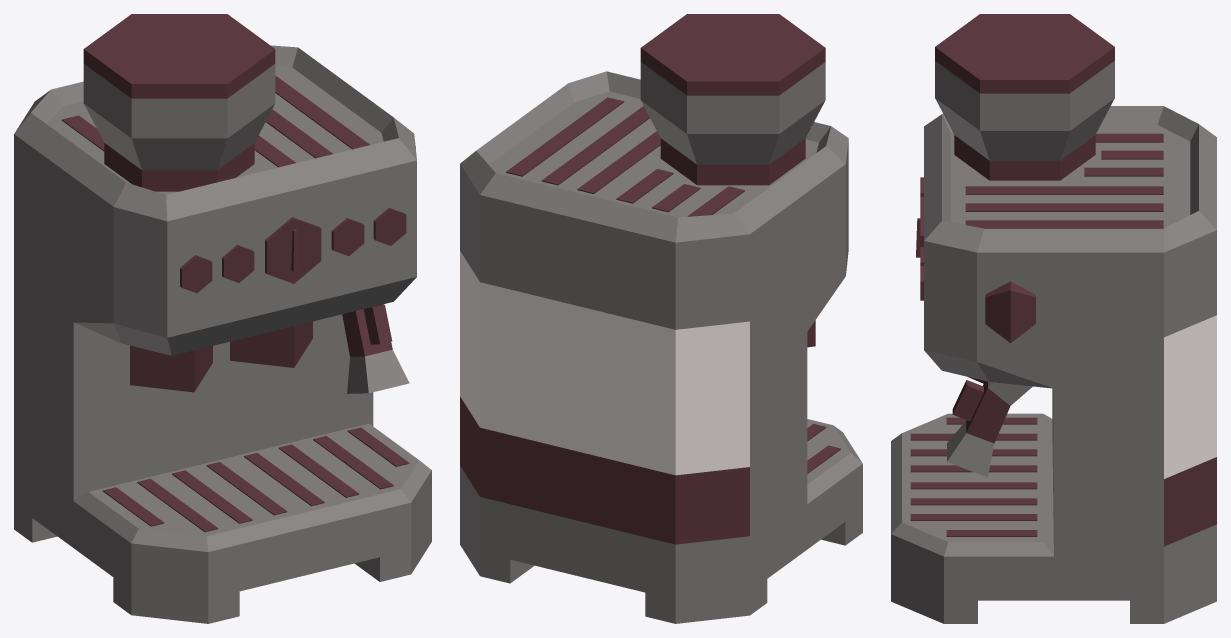
Rendered from coffee-machine.fbx.
3 renders of one model, left to right at view 1: azimuth 30°, elevation 25°; view 2: azimuth 150°, elevation 25°; view 3: azimuth 270°, elevation 25°, orthographic. The views are drawn at different scales.
Parts seen in each view (by area): view 1: coffee-machine; view 2: coffee-machine; view 3: coffee-machine.
Part boxes in pixels (x1,y1,x2,y2): coffee-machine: (14,14,431,623); coffee-machine: (460,14,862,623); coffee-machine: (891,14,1216,623).
Bounding box in the file's own units: 0.3409 × 0.5212 × 0.32.
